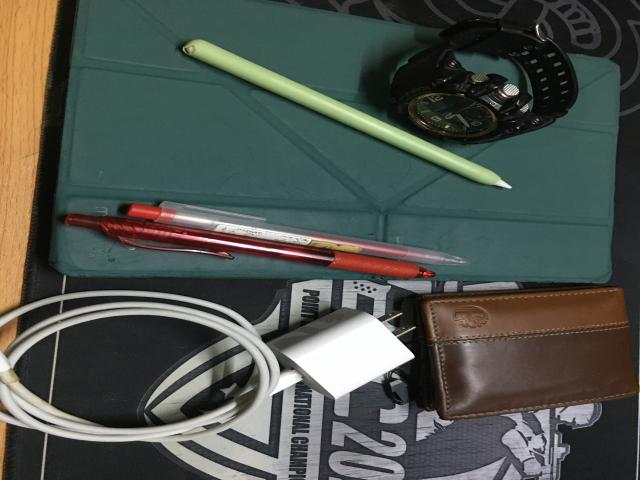Pen: (65, 214, 435, 278), (127, 202, 470, 265)
Wallet: (417, 287, 638, 420)
Watch: (390, 20, 578, 144)
wire: (0, 291, 413, 442)
